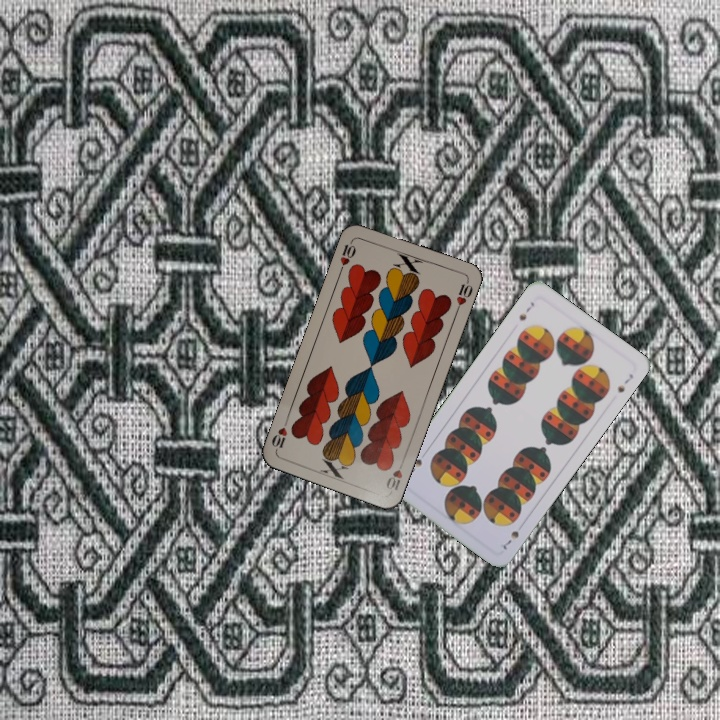H10: (382, 455, 407, 493), (336, 236, 359, 275)
S7: (498, 527, 522, 552), (515, 297, 537, 323)
